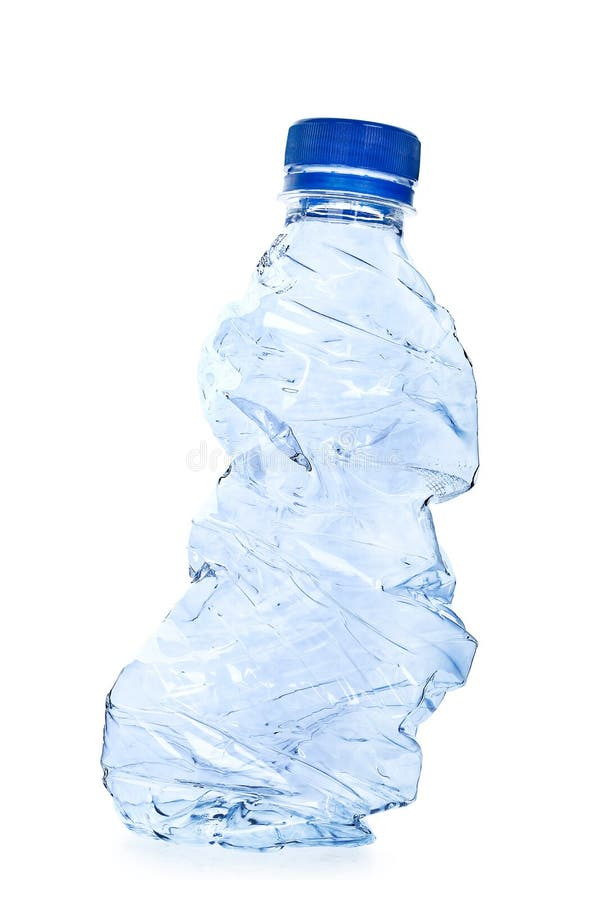bottle: (90, 91, 495, 867)
